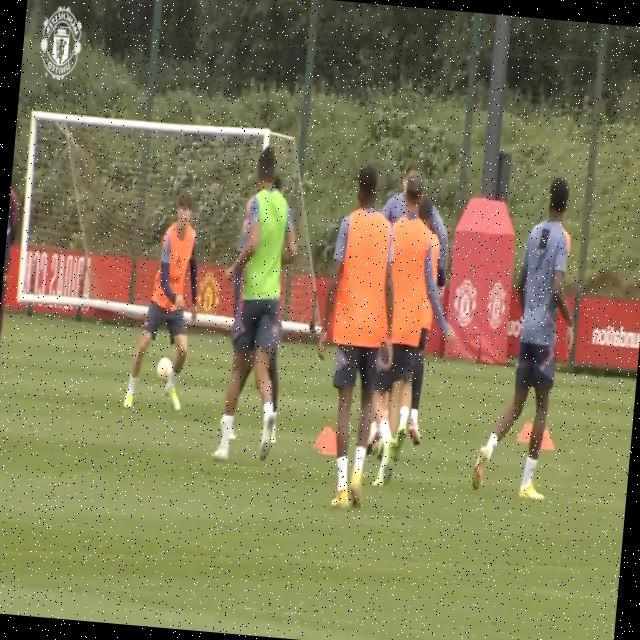Adidas: (171, 251, 183, 271)
